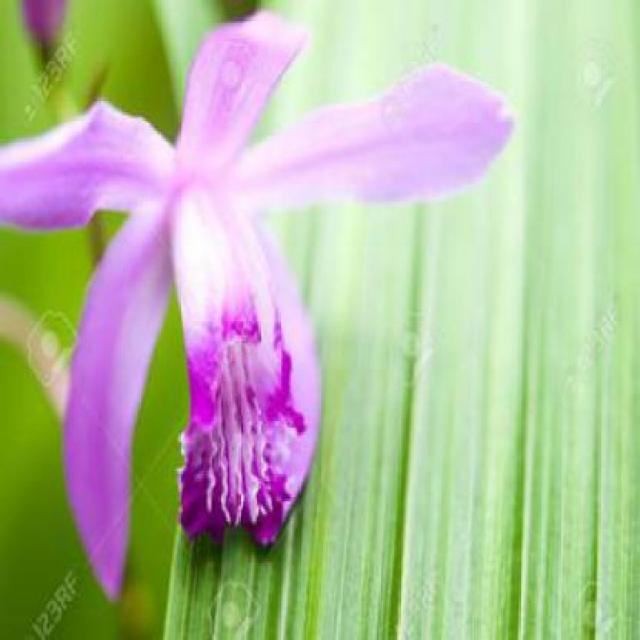Flower: (1, 10, 514, 602)
